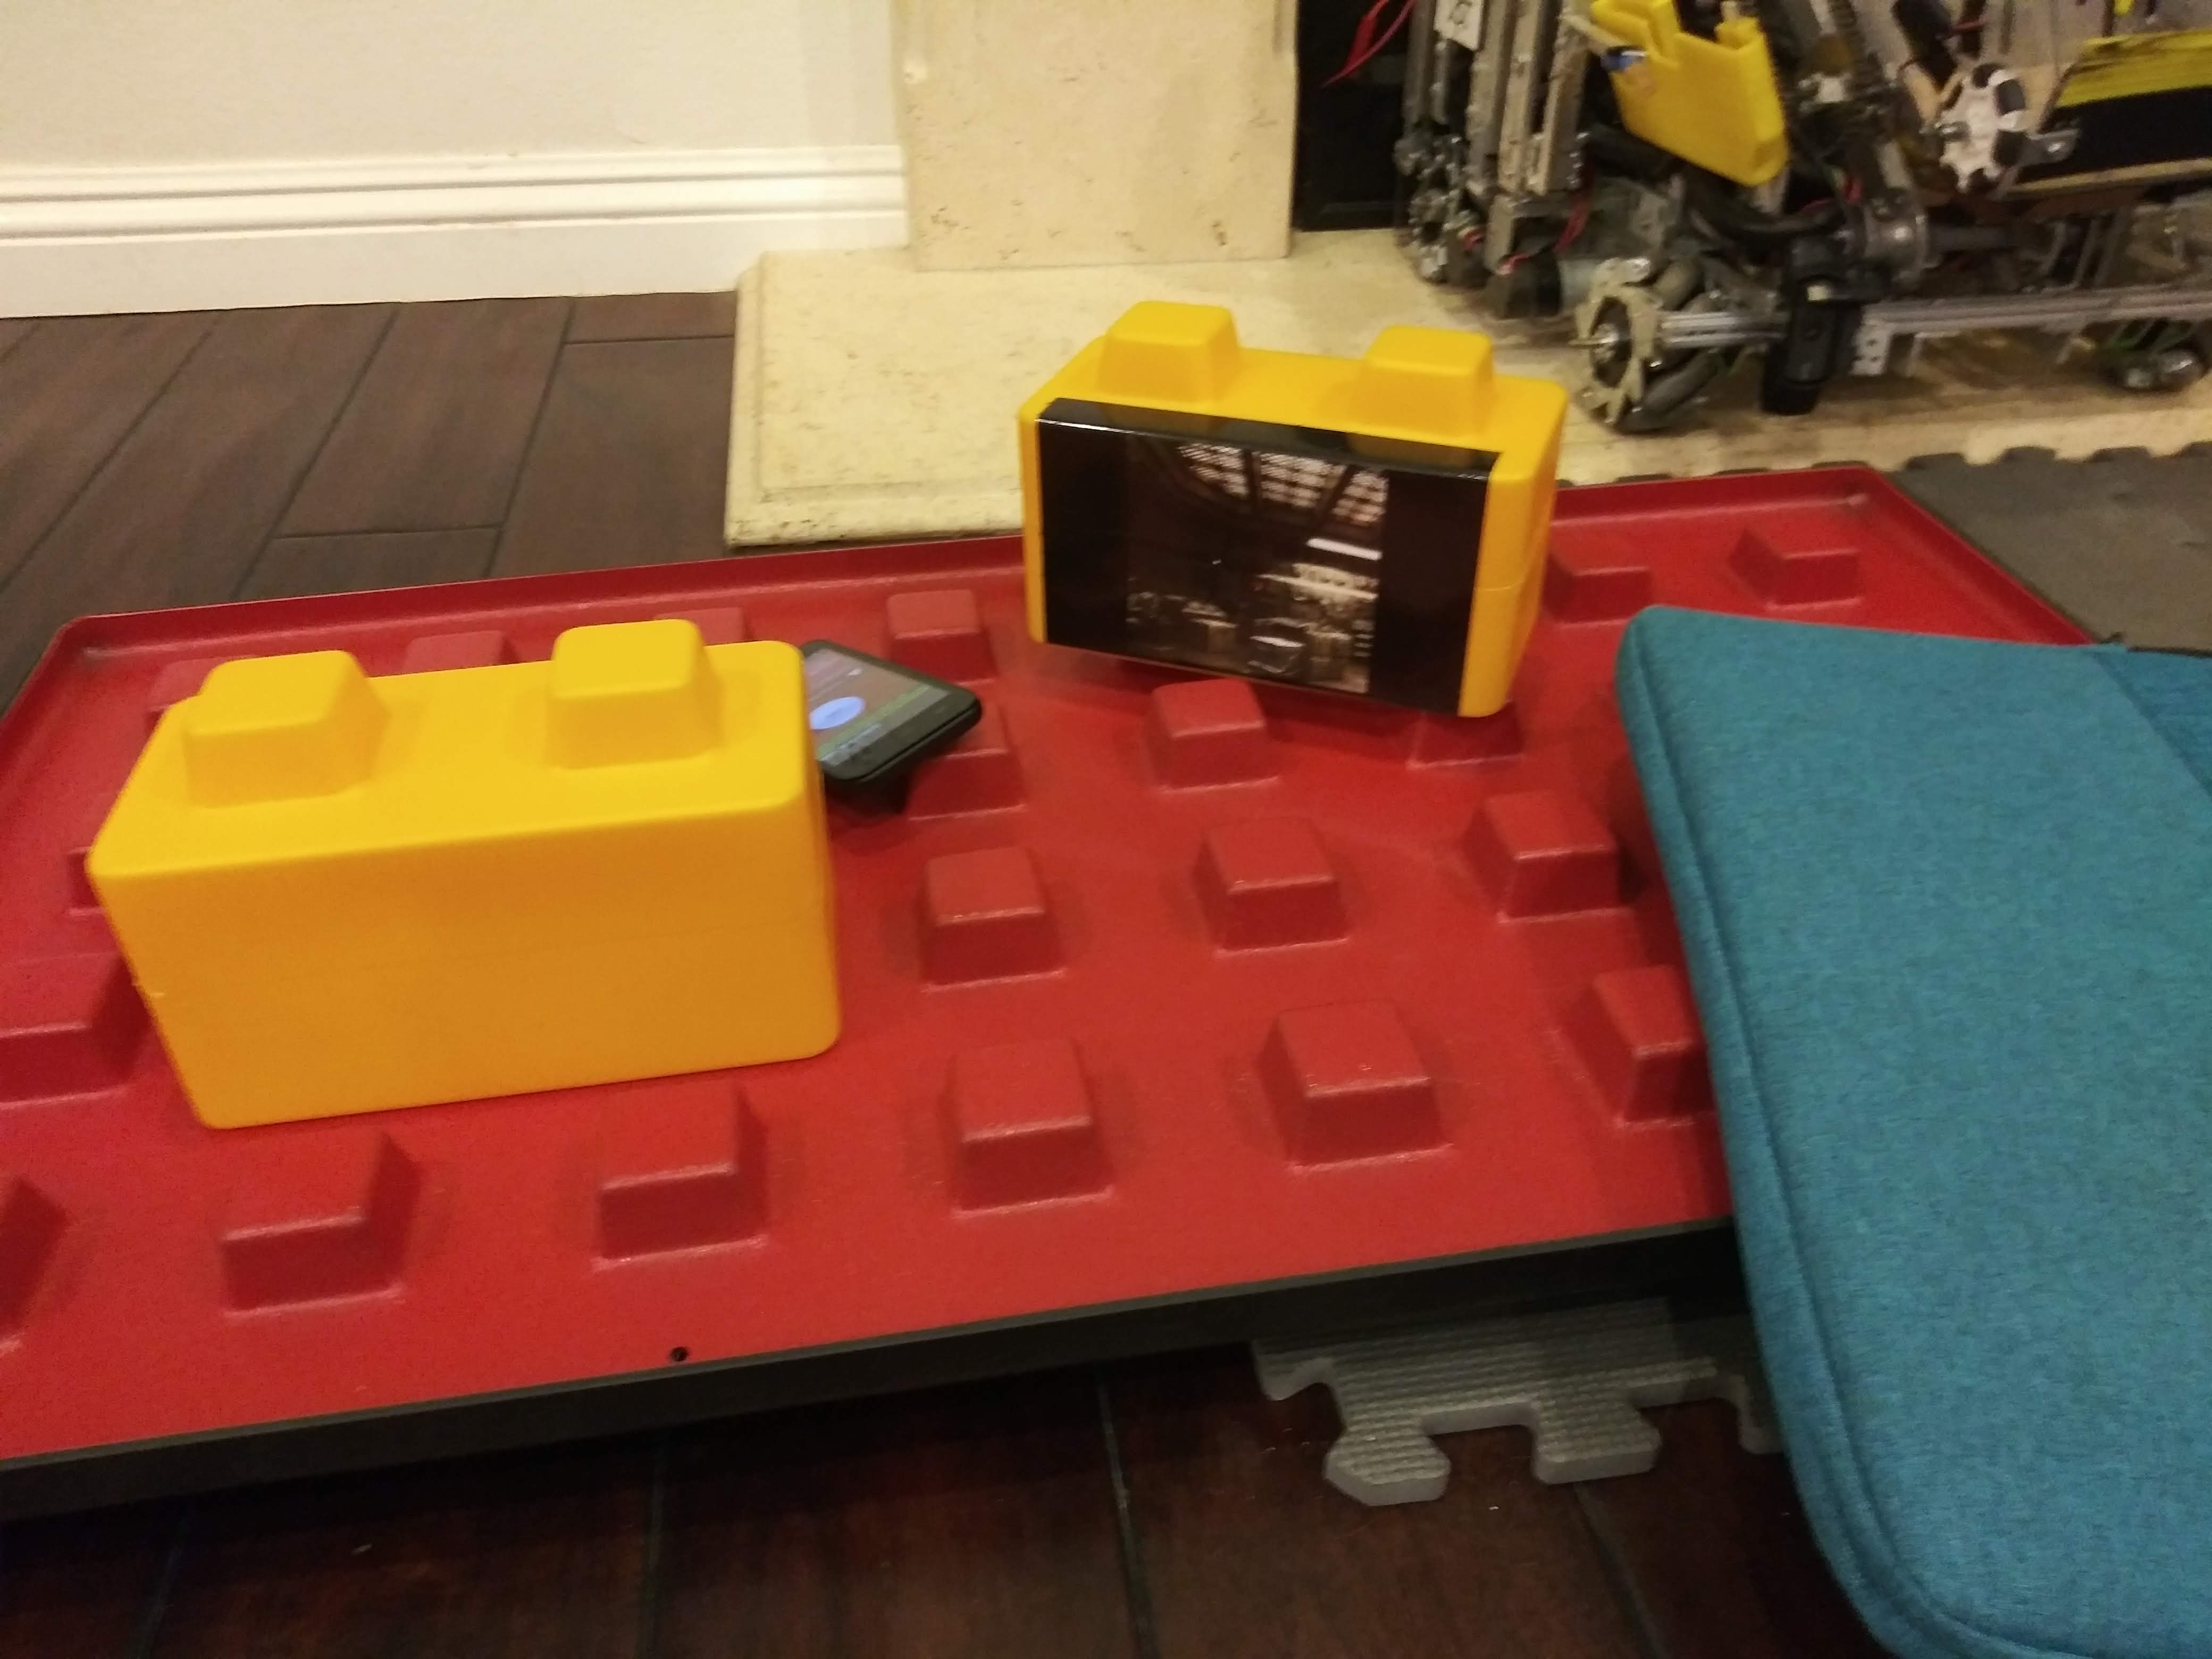skystone: (1024, 357, 1561, 716)
stone: (92, 674, 824, 1084)
